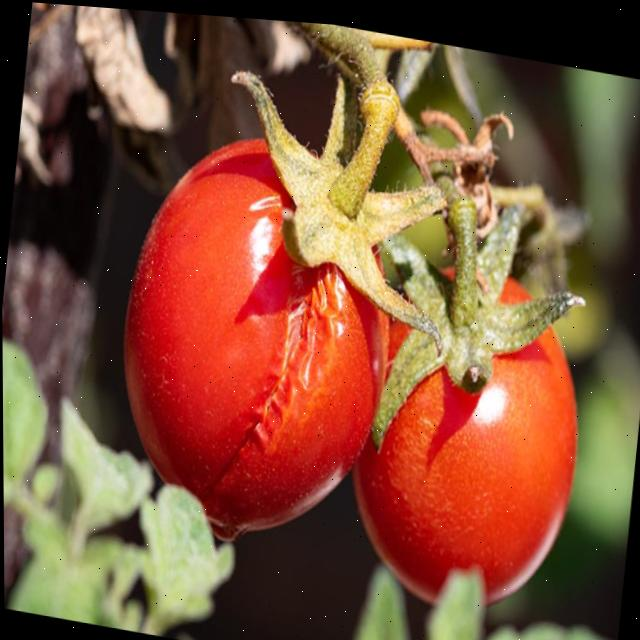damaged: (89, 85, 414, 565)
overripe: (346, 237, 599, 622)
